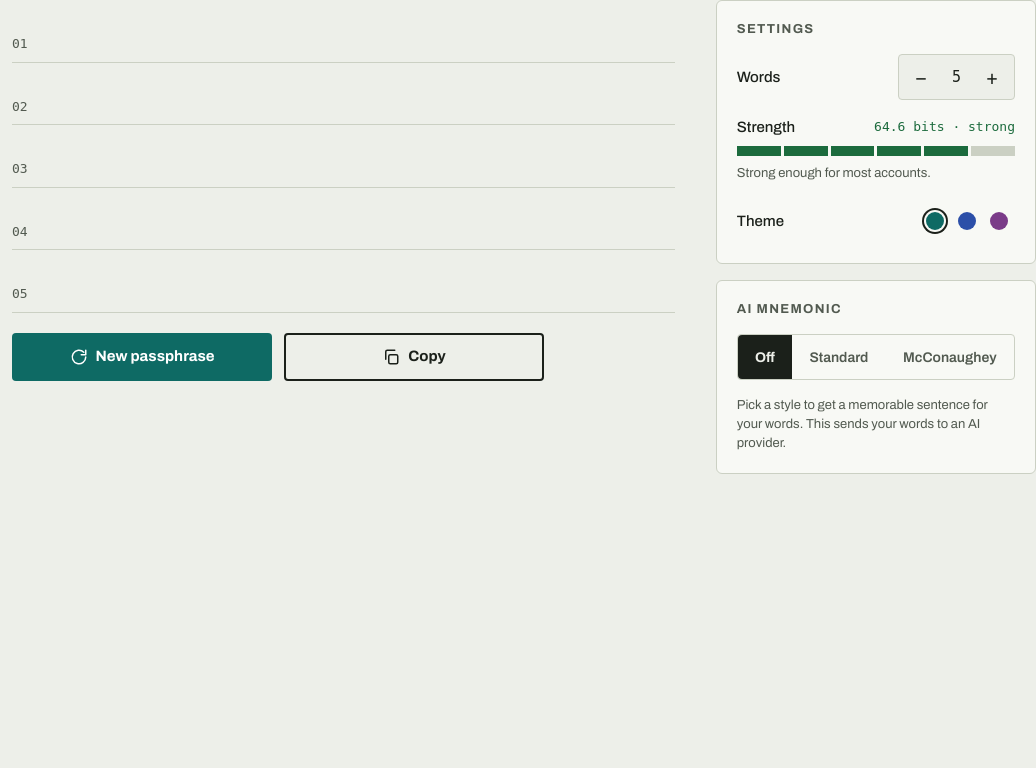
Test case: PassphraseGenerator › explains network failures
Click the 4th radio button labelled "Standard".
click(839, 357)  # box [809,350,868,365]
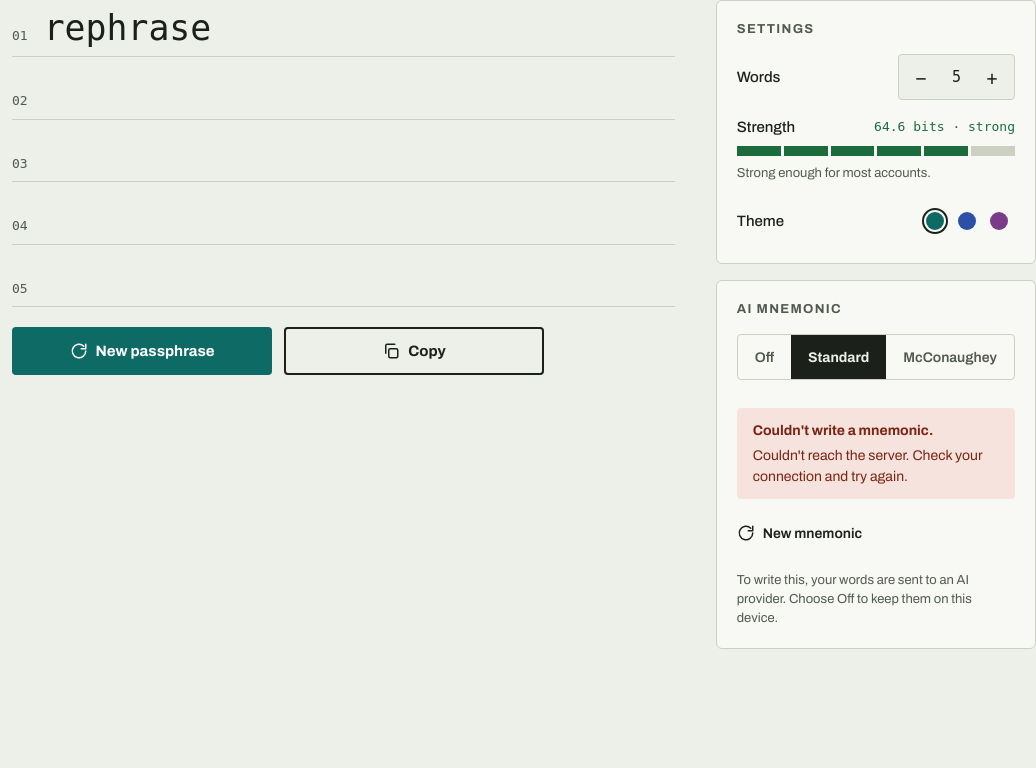
Check: the message shows "Couldn't reach the server. Check your connection and try again.", box [753,448,982,484]
